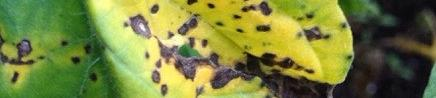Tomato Septoria leaf spot: (0, 0, 368, 98)
